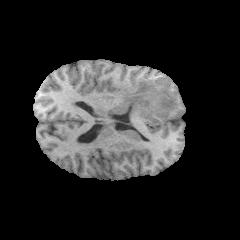glioma: (123, 80, 176, 116)
